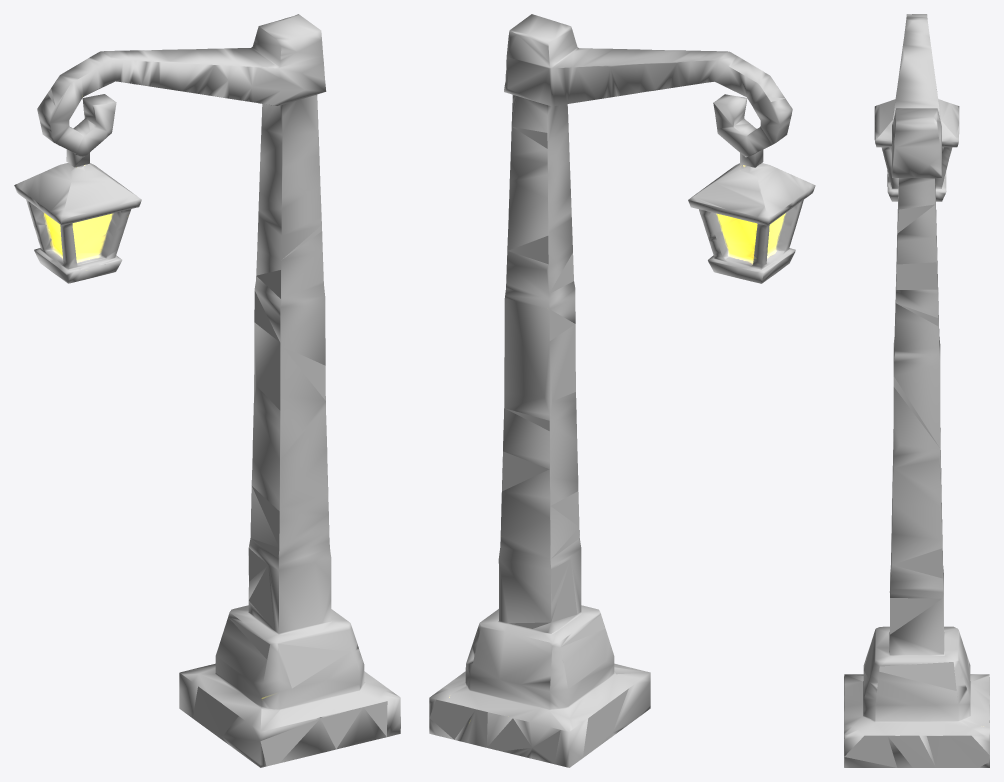
The model's file is Object_Streetlight_Brown.fbx.
3 renders of one model, left to right at view 1: azimuth 30°, elevation 25°; view 2: azimuth 150°, elevation 25°; view 3: azimuth 270°, elevation 25°, orthographic. The views are drawn at different scales.
Visible parts, largest first — view 1: Mesh_0; view 2: Mesh_0; view 3: Mesh_0.
Part boxes in pixels (box(x1,y1,x2,y2)): Mesh_0: box(14, 14, 400, 767); Mesh_0: box(429, 14, 815, 767); Mesh_0: box(844, 14, 989, 767).
Size of the model in its own units: 90.26 by 190 by 39.38.
